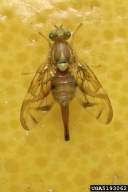Fruit fly: (16, 20, 119, 141)
